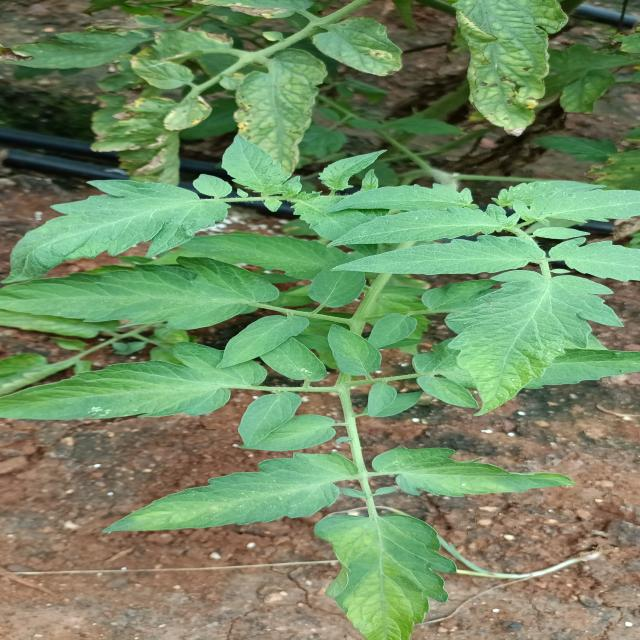Healthy Leaf: (433, 272, 628, 413), (99, 445, 349, 546), (1, 176, 224, 289), (377, 444, 598, 502), (311, 212, 517, 247), (236, 386, 300, 452)
